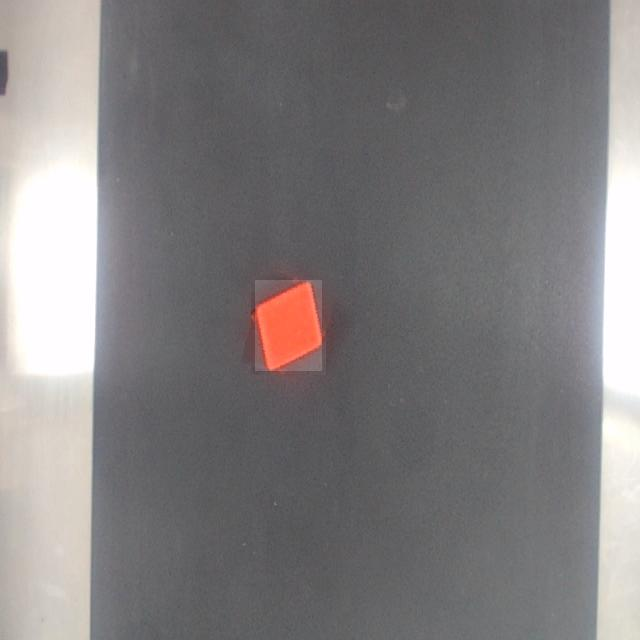Rojo: (255, 281, 322, 371)
